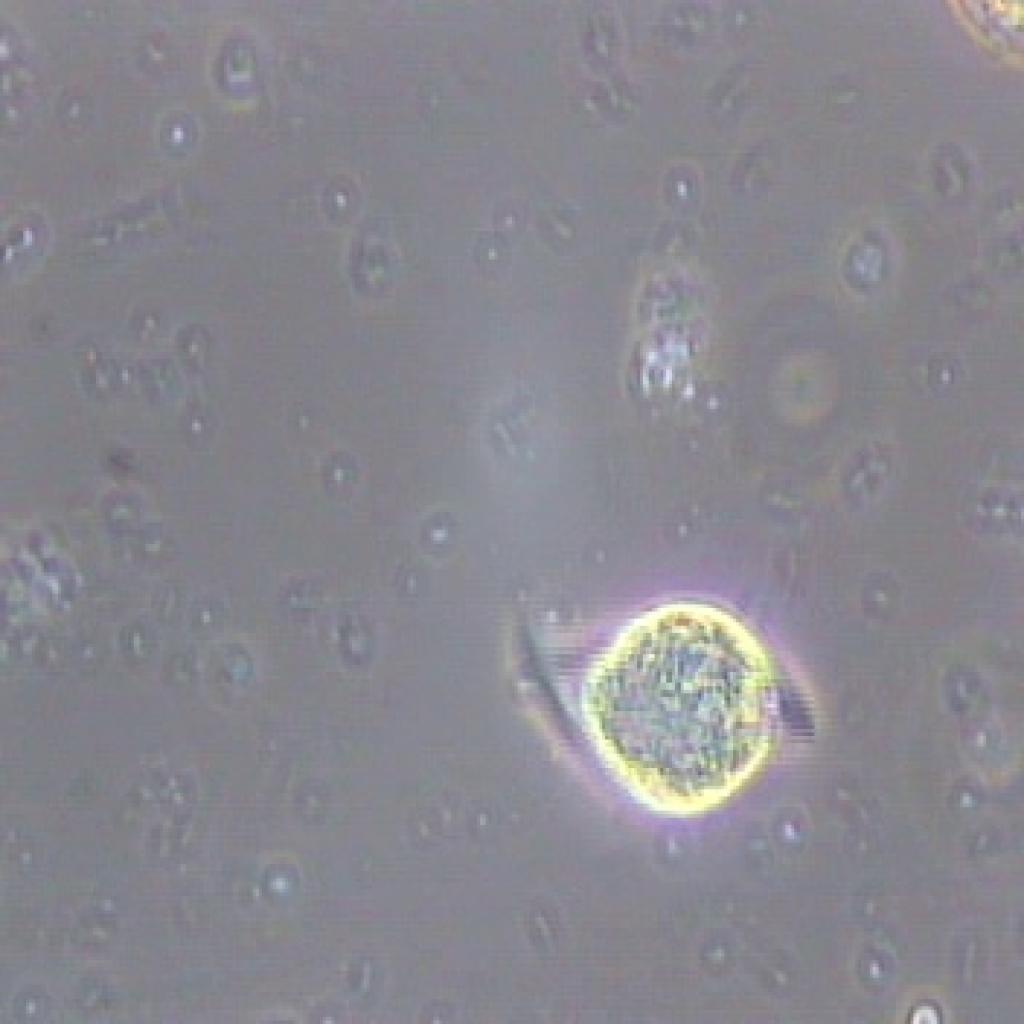Pristina: (504, 589, 818, 823)
